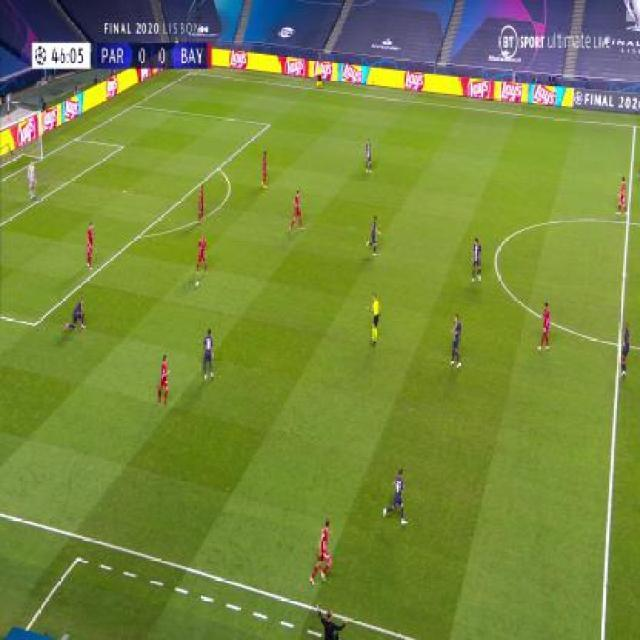ball: (195, 280, 200, 289)
player: (309, 518, 334, 584), (384, 467, 409, 526), (365, 290, 381, 346), (320, 608, 346, 639), (66, 296, 88, 332), (201, 328, 215, 384), (537, 302, 553, 350), (449, 314, 463, 368), (156, 354, 170, 407), (618, 323, 631, 379), (288, 189, 304, 234), (365, 214, 381, 257), (195, 236, 209, 279), (85, 222, 96, 271), (615, 176, 628, 216), (471, 237, 482, 283), (27, 160, 36, 203), (197, 186, 206, 225), (260, 151, 269, 188), (365, 138, 373, 174), (315, 63, 323, 89)
